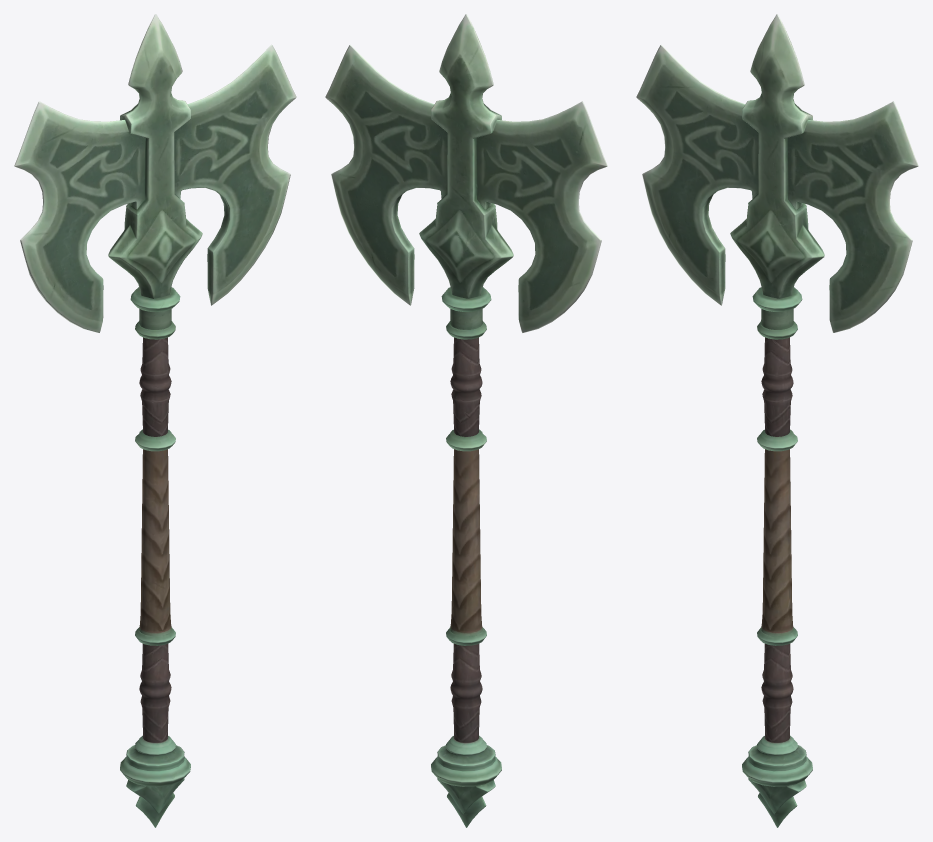
3 renders of one model, left to right at view 1: azimuth 30°, elevation 25°; view 2: azimuth 150°, elevation 25°; view 3: azimuth 330°, elevation 25°, orthographic.
Visible parts, largest first — view 1: SM_Greataxe_Adamant_2H_01_LOD0; view 2: SM_Greataxe_Adamant_2H_01_LOD0; view 3: SM_Greataxe_Adamant_2H_01_LOD0.
Part boxes in pixels (x1,y1,x2,y2): SM_Greataxe_Adamant_2H_01_LOD0: (14, 14, 296, 827); SM_Greataxe_Adamant_2H_01_LOD0: (325, 14, 607, 827); SM_Greataxe_Adamant_2H_01_LOD0: (636, 14, 918, 827).
Size of the model in its own units: 0.5928 by 1.63 by 0.1306.
1 material, 1 textured.
